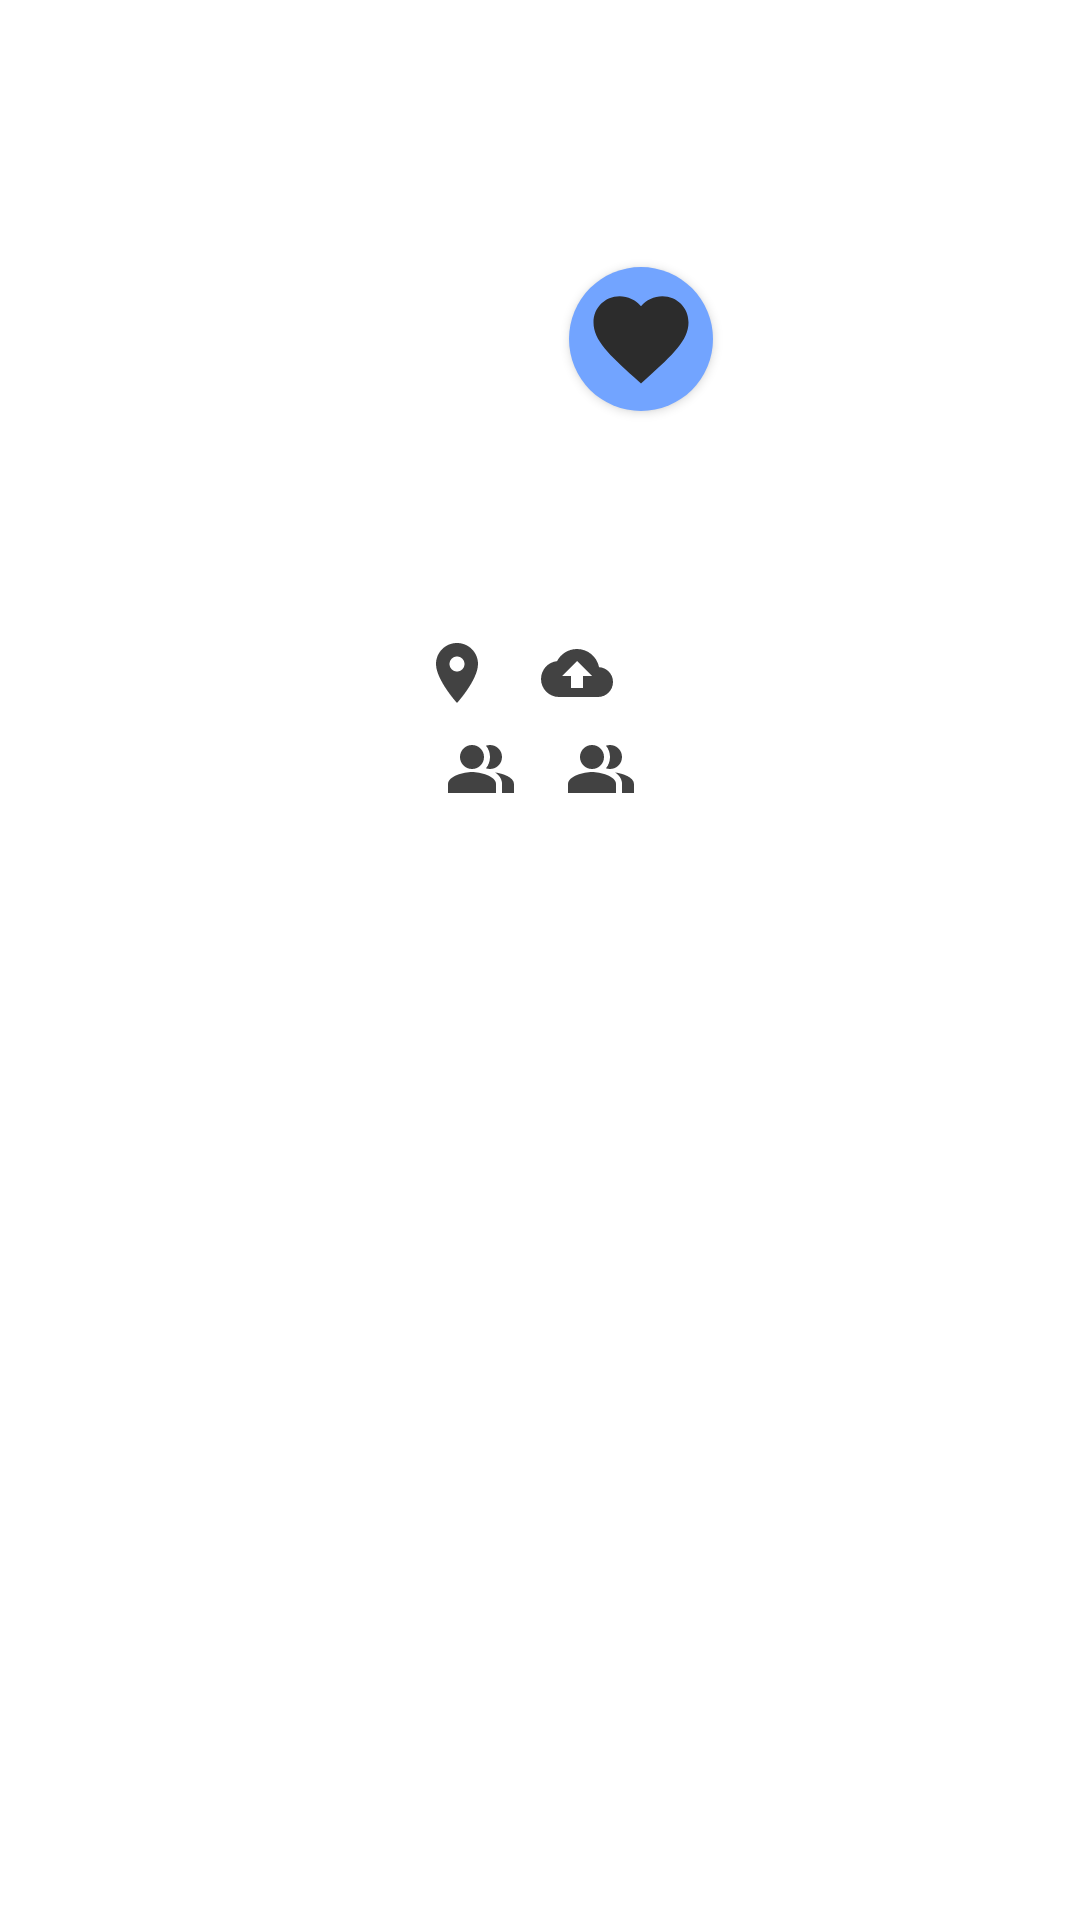

Locate icon controls on the screen. Image size 1080 × 1920, boxes as BBox(x1, y1, x2, y2).
favorite toggle: BBox(569, 267, 713, 411)
